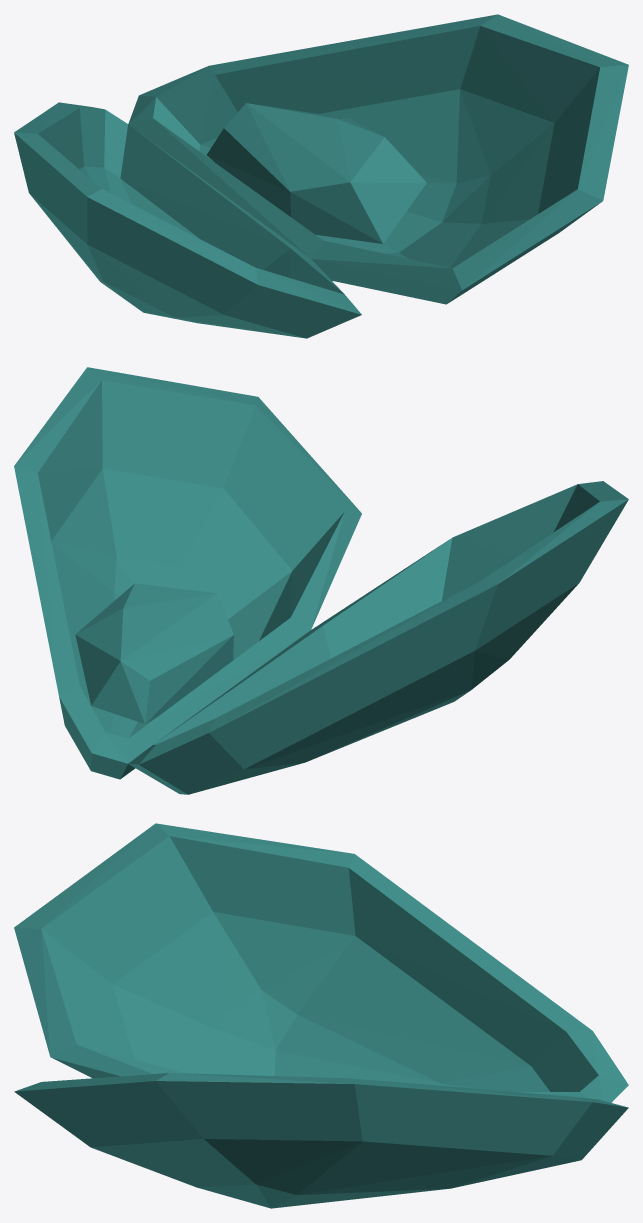
The model's file is SM_Sea_Shell_Mussel_Blue_Open_A.fbx.
The picture shows the model from 3 angles, top to bottom: view 1: azimuth 30°, elevation 25°; view 2: azimuth 150°, elevation 25°; view 3: azimuth 270°, elevation 25°; orthographic projection. The views are drawn at different scales.
Parts seen in each view (by area): view 1: sea-shell-mussel-blue-open-a; view 2: sea-shell-mussel-blue-open-a; view 3: sea-shell-mussel-blue-open-a.
Part boxes in pixels (bbox=[...]): sea-shell-mussel-blue-open-a: bbox=[14, 14, 628, 338]; sea-shell-mussel-blue-open-a: bbox=[14, 367, 628, 794]; sea-shell-mussel-blue-open-a: bbox=[14, 823, 628, 1208].
Bounding box in the file's own units: 0.1462 × 0.054 × 0.1475.
